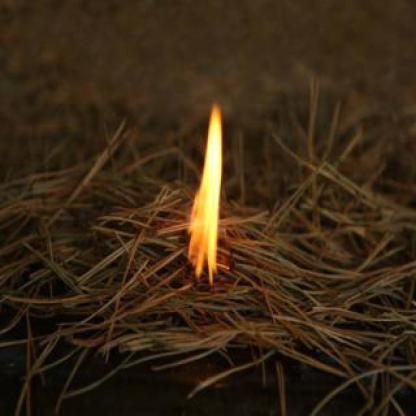Fire: (181, 98, 230, 289)
